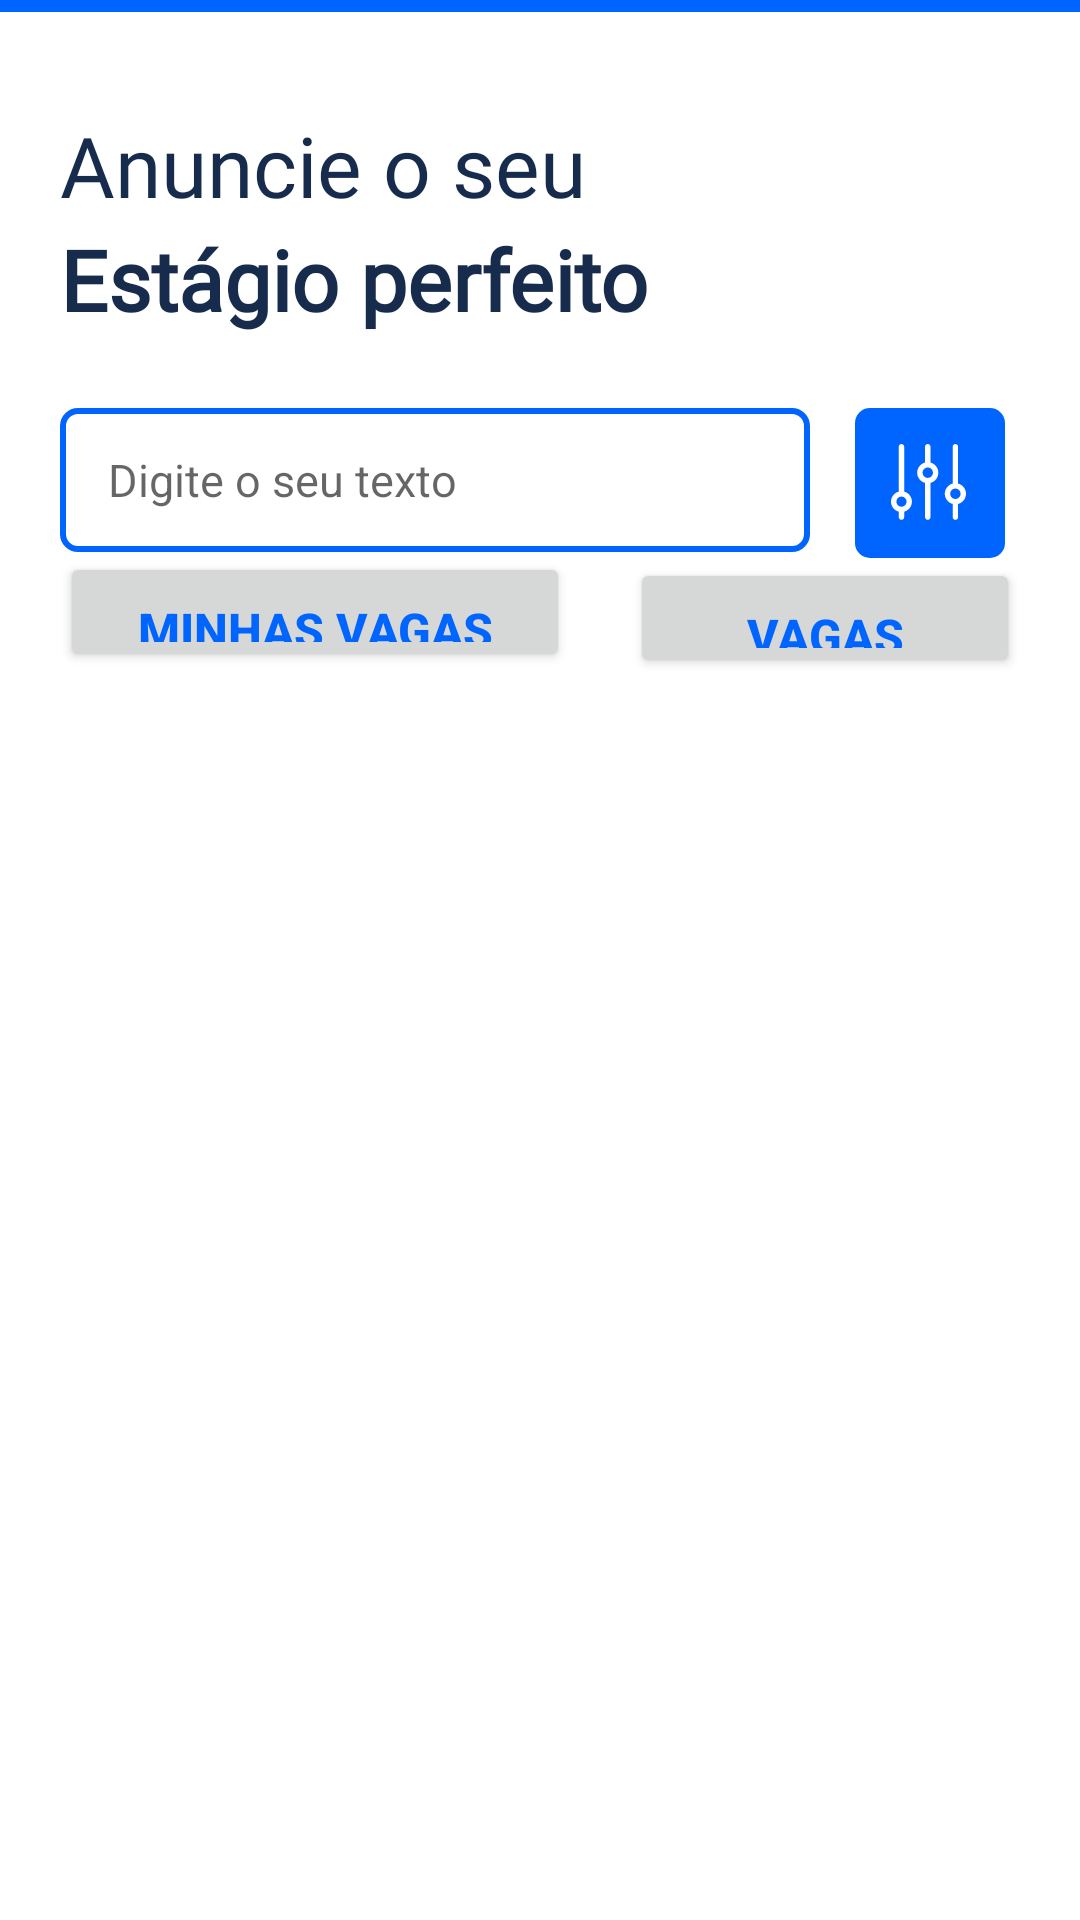

Screen size 1080 × 1920. Icon name, then its center in pixels as point (x, y):
filtro: point (930, 483)
